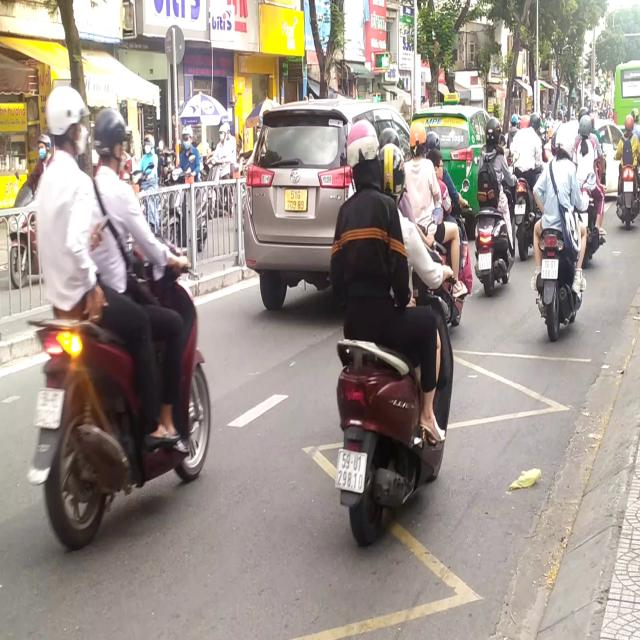bien_trang: (338, 445, 366, 491), (542, 258, 558, 278), (478, 254, 492, 269)
bien_vang: (284, 188, 308, 212)
